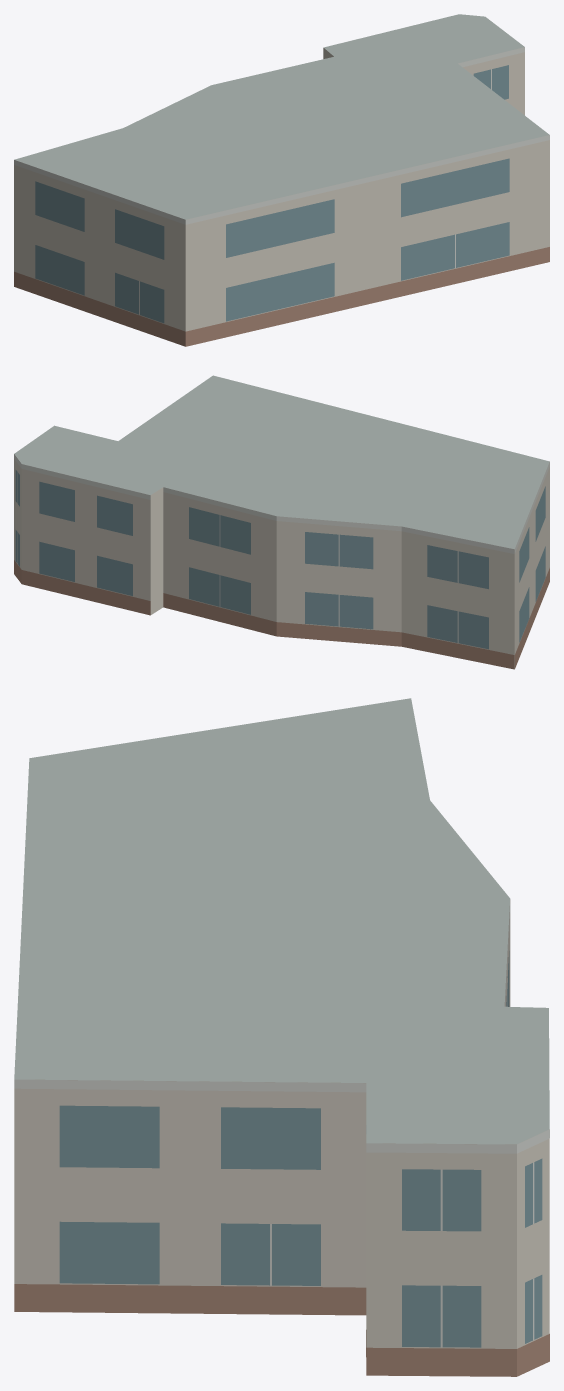
File: survey-upis-32766042.glb
3 renders of one model, top to bottom at view 1: azimuth 30°, elevation 25°; view 2: azimuth 150°, elevation 25°; view 3: azimuth 270°, elevation 25°, orthographic. The views are drawn at different scales.
Visible parts, largest first — view 1: survey-upis-32766042.tmp; view 2: survey-upis-32766042.tmp; view 3: survey-upis-32766042.tmp.
Part boxes in pixels (x1,y1,x2,y2): survey-upis-32766042.tmp: [14, 14, 549, 346]; survey-upis-32766042.tmp: [14, 375, 549, 669]; survey-upis-32766042.tmp: [14, 698, 549, 1376].
Bounding box in the file's own units: 25.14 × 6.1 × 12.76.
